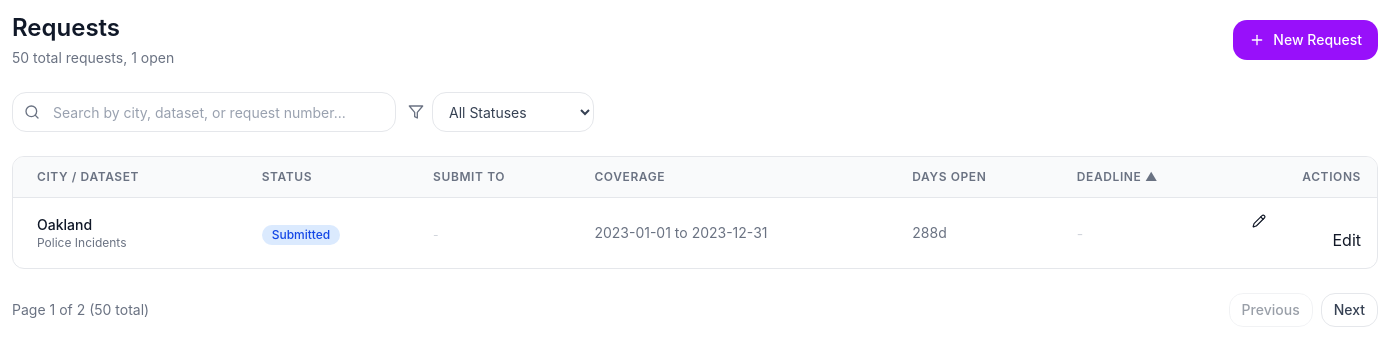
RequestsListContent › disables Next on last page
Note: Go to page 2 (last page with 50 total / 25 per page)
Click the button "Next": (1349, 310) [1321, 293, 1378, 327]
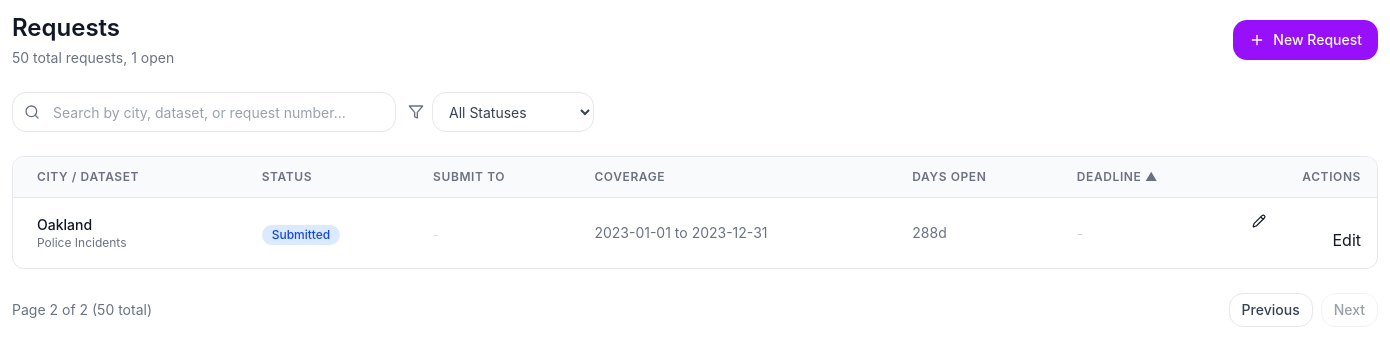
expect the button "Next" is disabled: met, box [1321, 293, 1378, 327]
expect the button "Previous" is enabled: met, box [1229, 293, 1313, 327]
